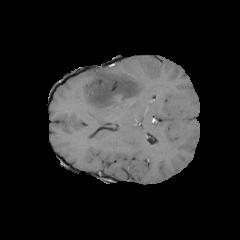glioma: (85, 68, 143, 123)
